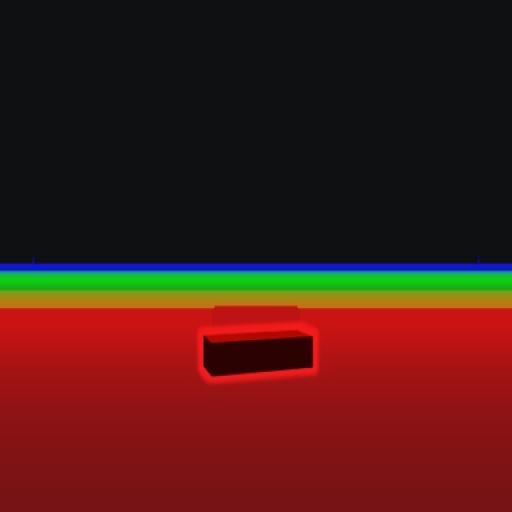debris_container: (201, 323, 314, 383)
